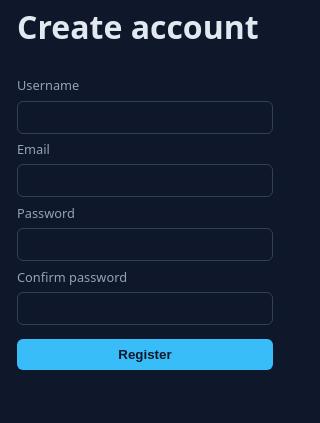
Test: Register › surfaces a 409 conflict as a friendly message
In the field labelled "Username": (145, 117) left=17, top=101, right=273, bottom=134, type "alice"
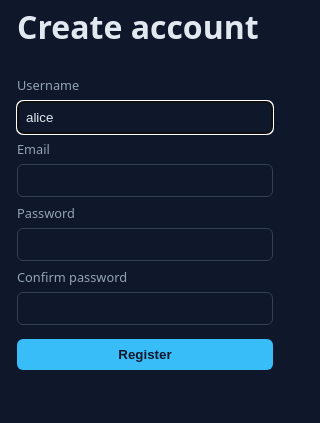
In the field labelled "Email": (145, 181) left=17, top=164, right=273, bottom=197, type "alice@demo.example.com"
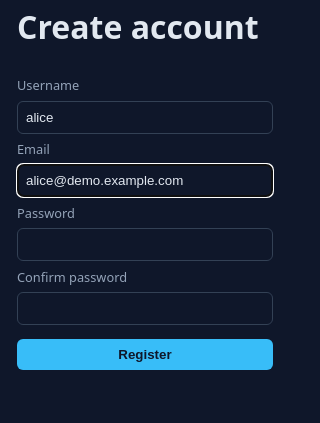
In the password field labelled "Password": (145, 245) left=17, top=228, right=273, bottom=261, type "s3cret-pw"
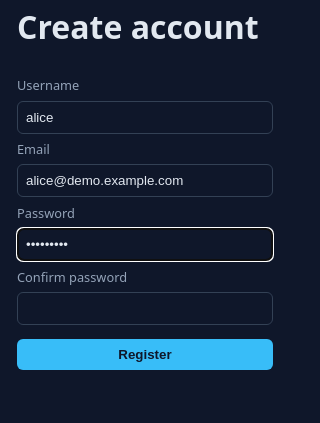
In the password field labelled "Confirm password": (145, 308) left=17, top=292, right=273, bottom=325, type "s3cret-pw"
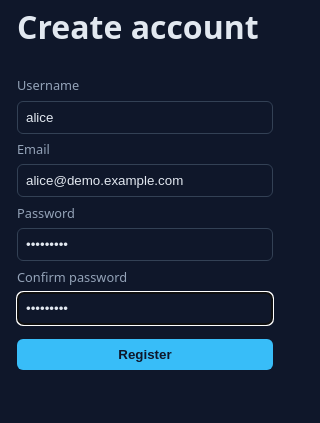
Click the button "Register": (145, 355) left=17, top=339, right=273, bottom=370
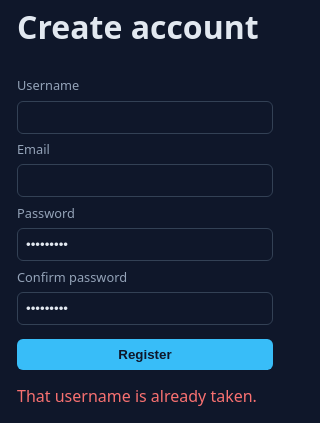
Now the text "That username is already taken." is shown, box left=17, top=385, right=273, bottom=407
